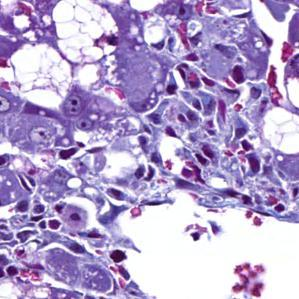ballooning: (5, 39, 75, 116), (50, 3, 120, 66), (259, 101, 296, 156)
